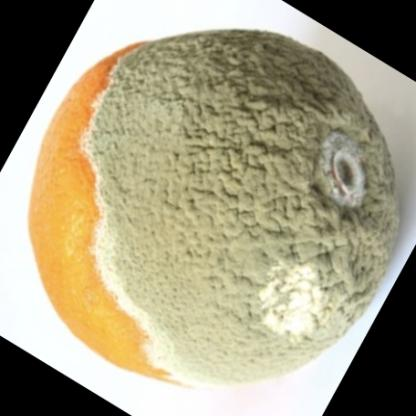rotten: (31, 29, 401, 386)
